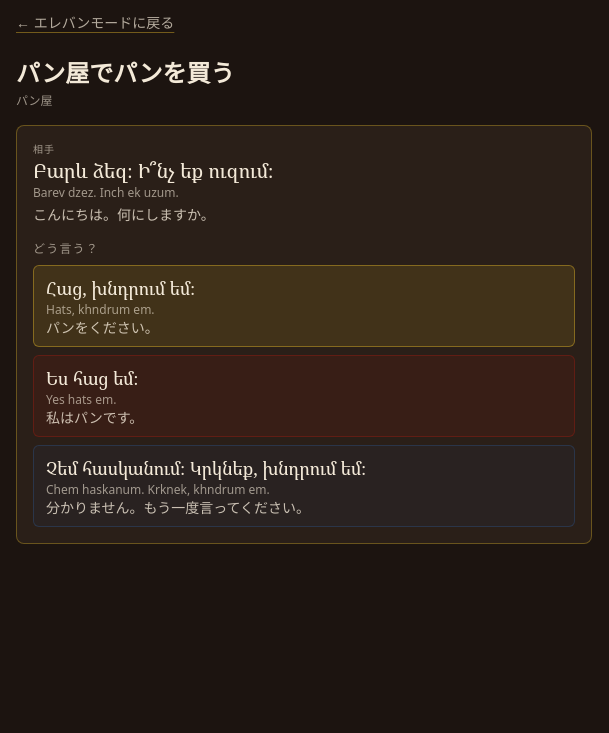
ScenarioDialogue › recovers from a funny mistake instead of dead-ending
Click the button "Ես հաց եմ։ Yes hats em. 私はパンです。". click: (92, 378)
box: [33, 355, 575, 437]
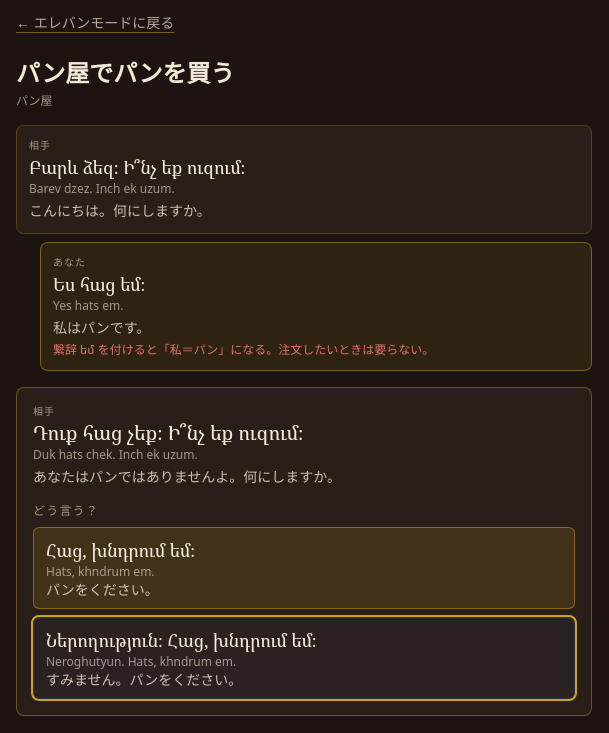
Expected: the button "Հաց, խնդրում եմ։ Hats, khndrum em. パンをください。" is shown, [33, 527, 575, 609]
Now the text "Դուք հաց չեք։ Ի՞նչ եք ուզում։" is shown, box [33, 419, 303, 446]
Now the text "繋辞 եմ を付けると「私＝パン」になる。注文したいときは要らない。" is shown, box [53, 341, 434, 358]
